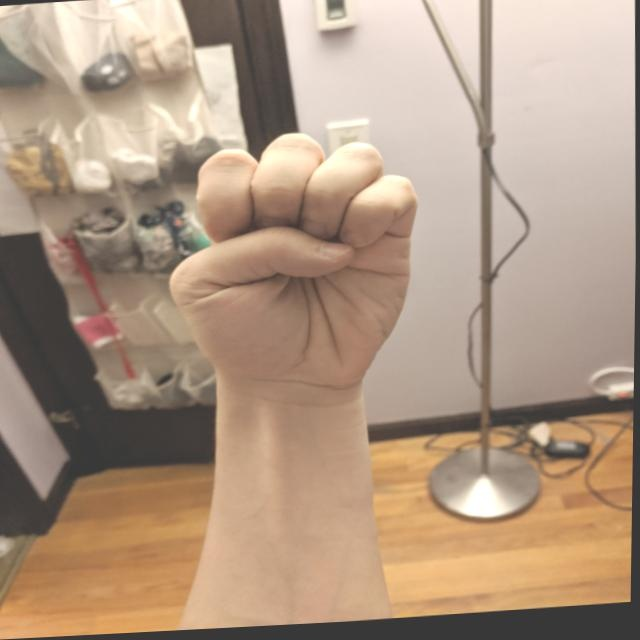E: (158, 124, 429, 408)
